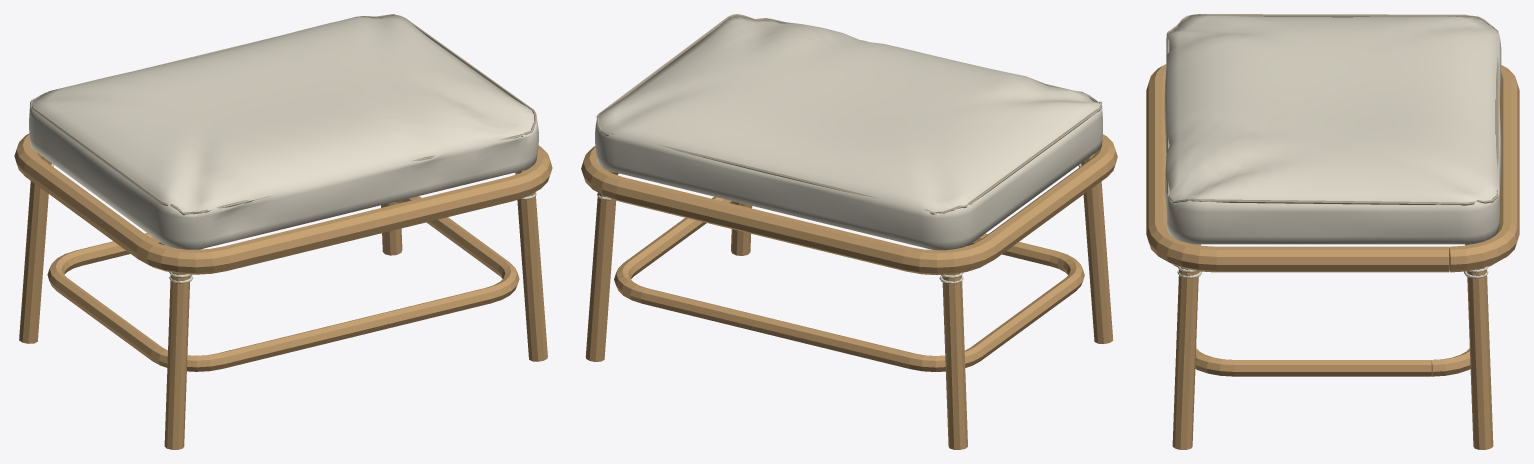
Rendered from designed-sunroom-ottoman.glb.
3 views of the same model, side by side, from view 1: azimuth 30°, elevation 25°; view 2: azimuth 150°, elevation 25°; view 3: azimuth 270°, elevation 25° (orthographic). The views are drawn at different scales.
Visible parts, largest first — view 1: catalog_surface_RealismUV; view 2: catalog_surface_RealismUV; view 3: catalog_surface_RealismUV.
Boxes of the visible parts, bbox=[...] form: catalog_surface_RealismUV: bbox=[14, 14, 552, 449]; catalog_surface_RealismUV: bbox=[581, 14, 1117, 449]; catalog_surface_RealismUV: bbox=[1146, 14, 1519, 449].
Bounding box in the file's own units: 0.65 × 0.39 × 0.5.
